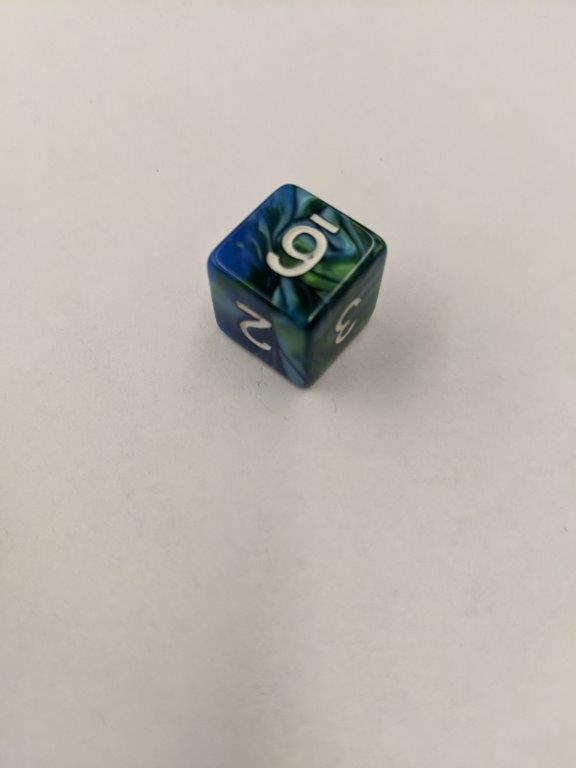d6-6: (205, 182, 389, 392)
